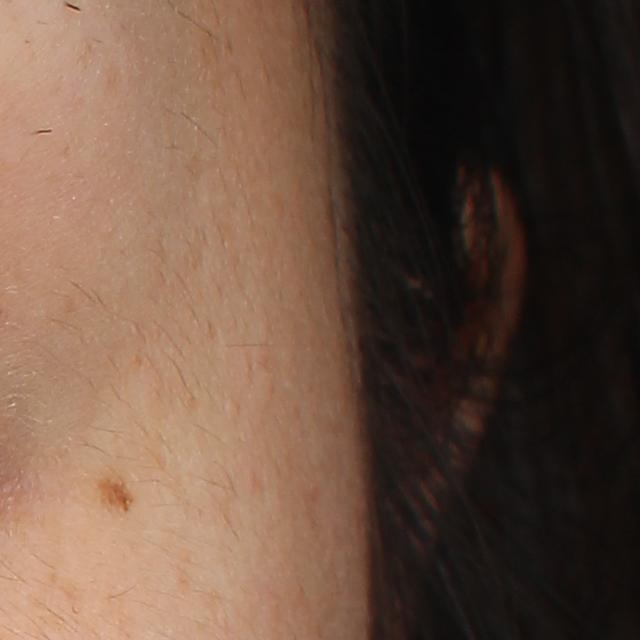nevus: (96, 475, 139, 514)
